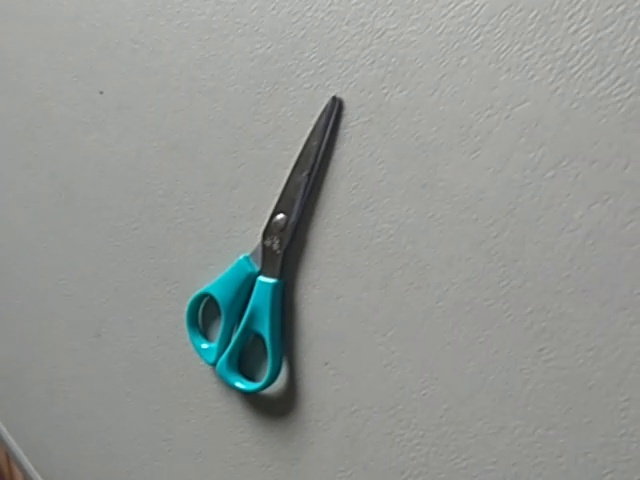Sizer: (169, 77, 368, 415)
